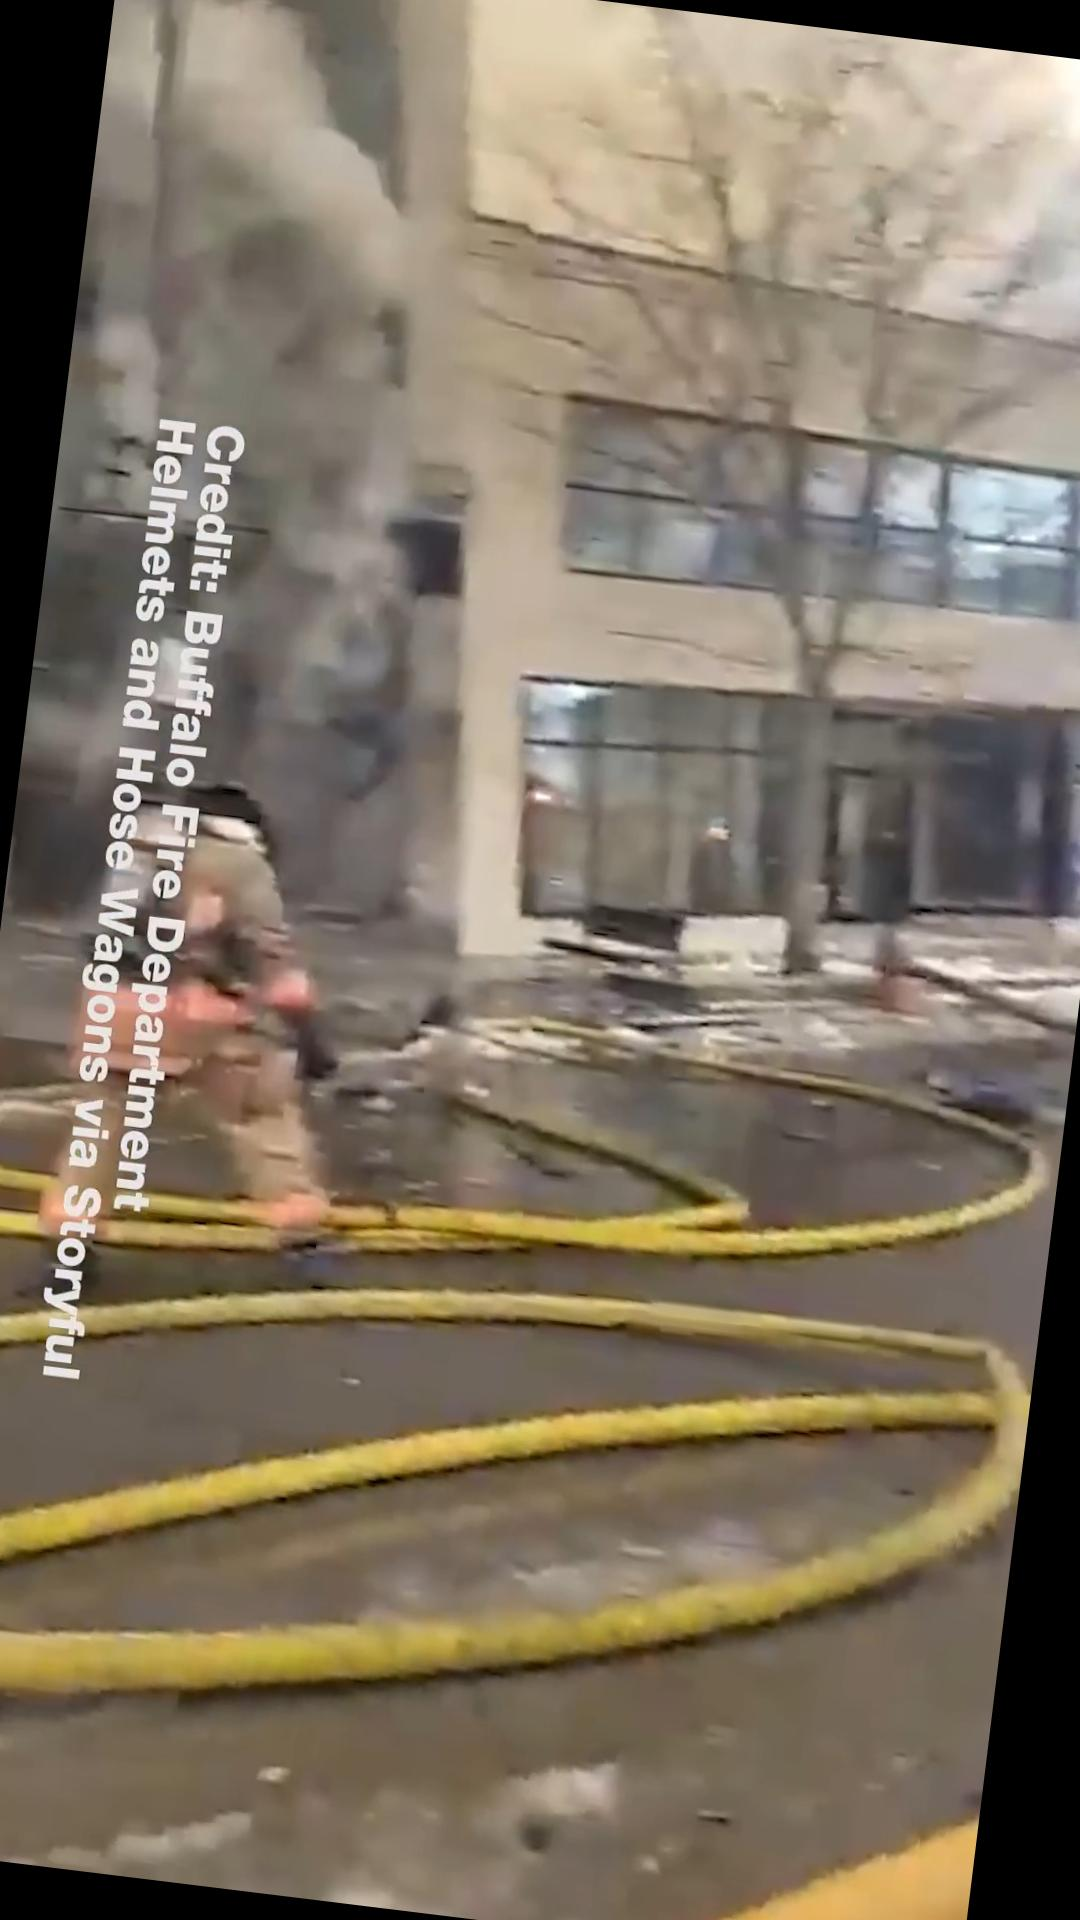Smoke: (65, 0, 488, 443)
